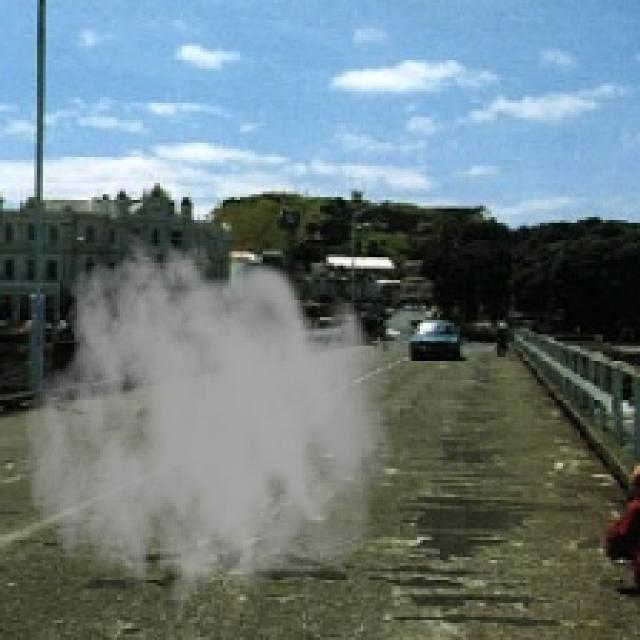smoke: (23, 229, 394, 637)
